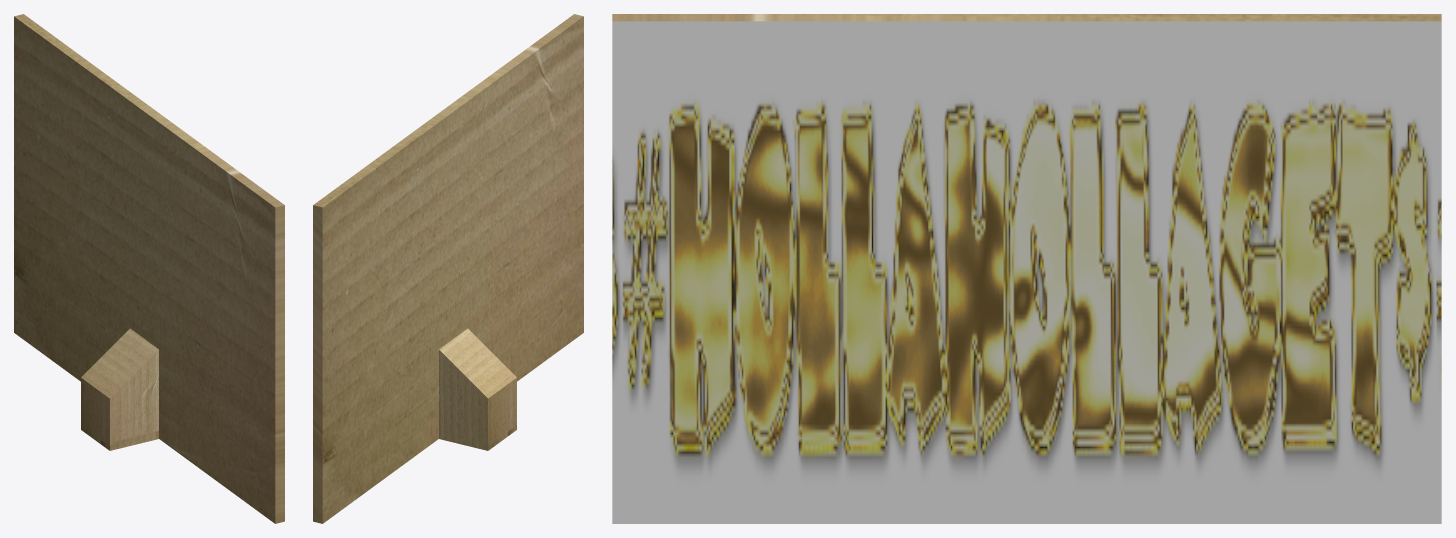
Rendered from HOLLAHOLLAGETDOLLA.fbx.
3 renders of one model, left to right at view 1: azimuth 30°, elevation 25°; view 2: azimuth 150°, elevation 25°; view 3: azimuth 270°, elevation 25°, orthographic. The views are drawn at different scales.
Parts seen in each view (by area): view 1: pCube3; view 2: pCube3; view 3: pCube3.
Boxes of the visible parts, box(x1,y1,x2,y2) form: pCube3: box(14, 14, 284, 523); pCube3: box(313, 14, 583, 523); pCube3: box(612, 14, 1441, 523).
Size of the model in its own units: 0.8198 by 4.21 by 6.3.
